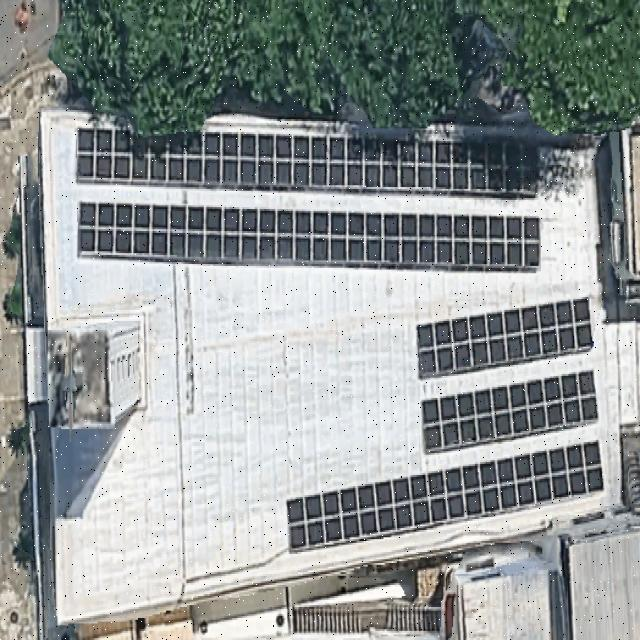painel: (77, 127, 541, 272), (288, 443, 604, 548), (417, 297, 596, 450)
